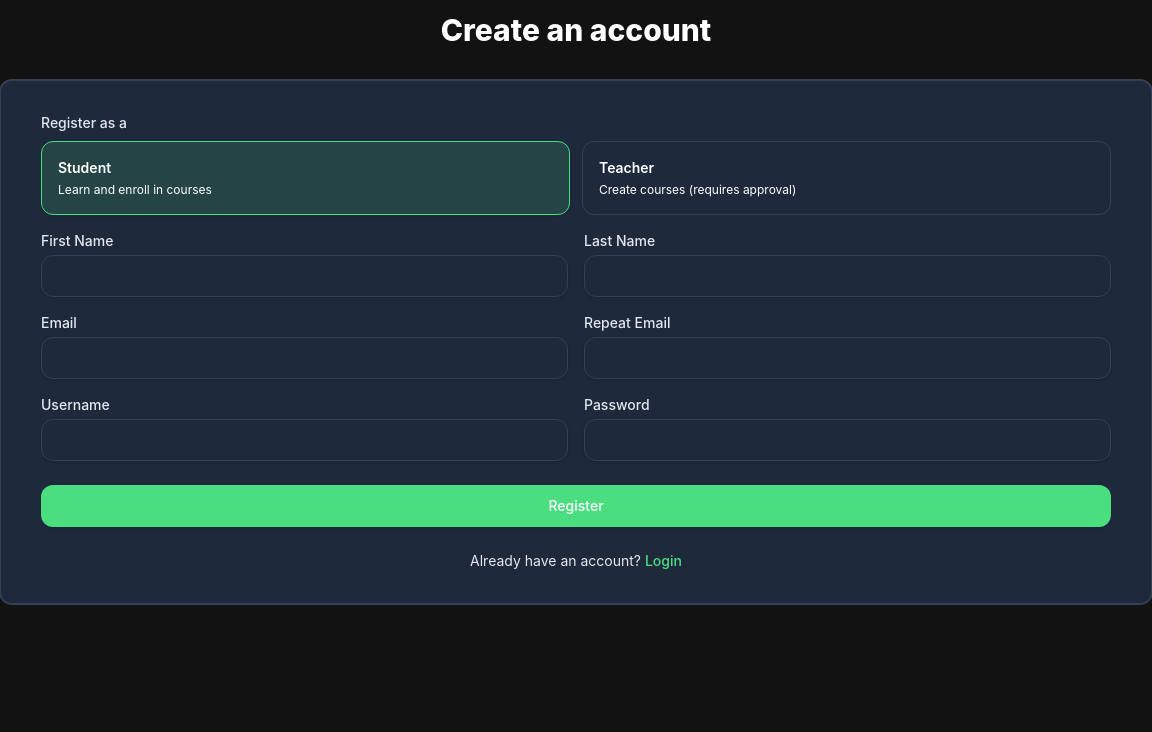
Scenario: Register Component Test › Client Form Validation › should not submit with client-side errors
Click the button "Register".
click(576, 506)  # box x1=41 y1=485 x2=1111 y2=527
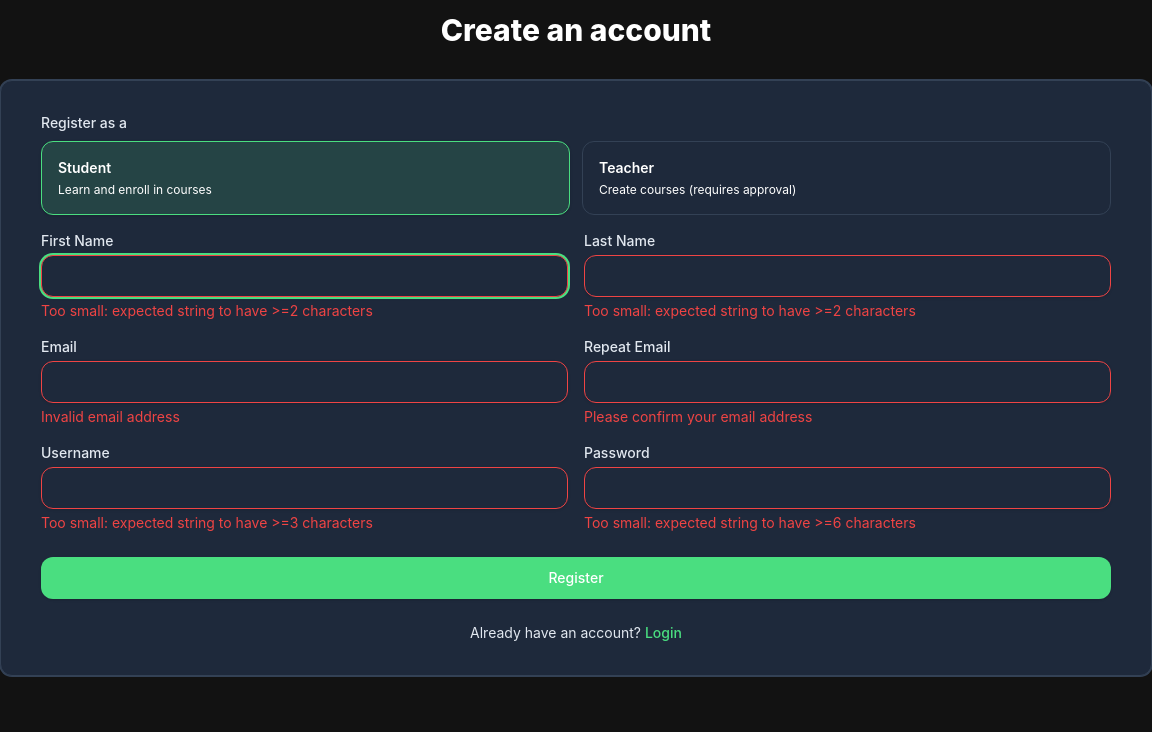
Now the message below "First Name" is shown, box x1=41 y1=302 x2=373 y2=319
Now the text "Invalid email address" is shown, box x1=41 y1=408 x2=180 y2=425
